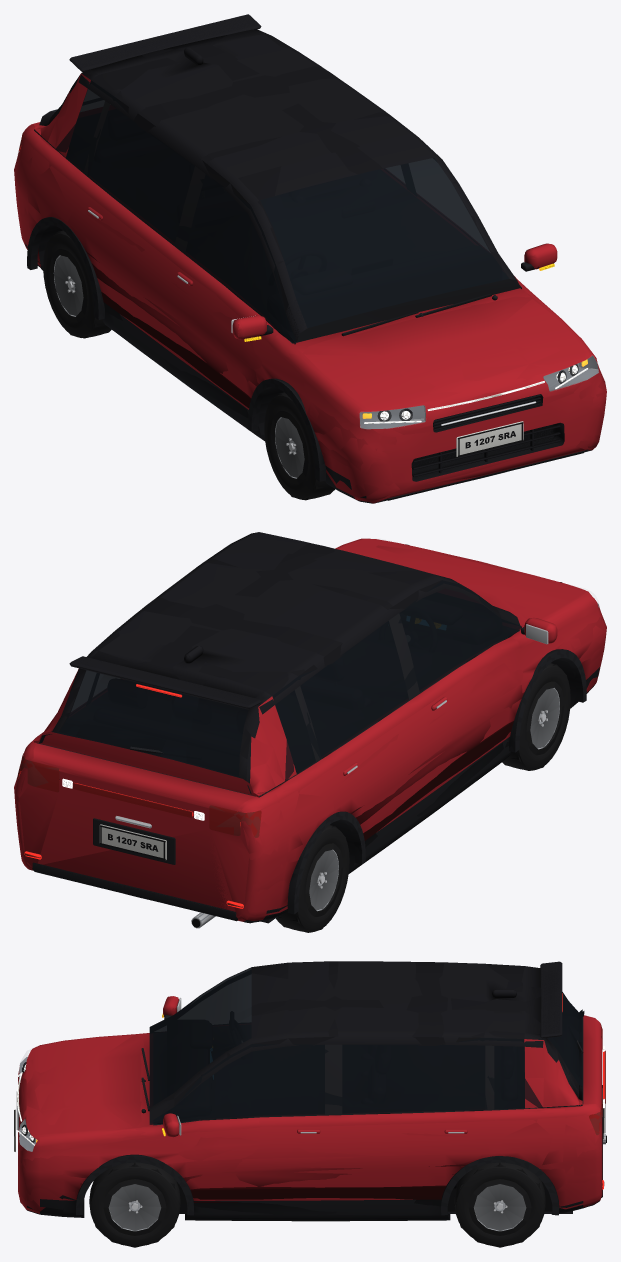
Rendered from lintas.glb.
The picture shows the model from 3 angles, top to bottom: view 1: azimuth 30°, elevation 25°; view 2: azimuth 150°, elevation 25°; view 3: azimuth 270°, elevation 25°; orthographic projection. The views are drawn at different scales.
Visible parts, largest first — view 1: body, lod1_glass, lod1_paint, lod1_rest, wheel_fr, wheel_rr; view 2: body, lod1_paint, lod1_glass, lod1_rest, wheel_rr, wheel_fr; view 3: body, lod1_glass, lod1_paint, lod1_rest, wheel_rl, wheel_fl.
Part boxes in pixels (x1,y1,x2,y2): body: [14, 14, 606, 503]; lod1_glass: [53, 80, 521, 342]; lod1_paint: [14, 73, 606, 503]; lod1_rest: [18, 15, 598, 502]; wheel_fr: [264, 392, 335, 499]; wheel_rr: [43, 230, 111, 337]; body: [14, 532, 606, 928]; lod1_paint: [14, 538, 606, 919]; lod1_glass: [51, 580, 521, 780]; lod1_rest: [17, 543, 598, 932]; wheel_rr: [276, 825, 349, 932]; wheel_fr: [502, 663, 570, 770]; body: [14, 961, 606, 1221]; lod1_glass: [149, 967, 582, 1123]; lod1_paint: [18, 996, 602, 1211]; lod1_rest: [17, 961, 605, 1247]; wheel_rl: [454, 1162, 545, 1246]; wheel_fl: [89, 1162, 180, 1246].
Size of the model in its own units: 2.1 by 1.57 by 4.06.
